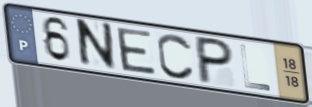6: (41, 15, 72, 64)
C: (155, 31, 197, 82)
E: (114, 26, 158, 77)
L: (238, 43, 274, 93)
N: (77, 17, 118, 73)
P: (196, 34, 236, 86)
